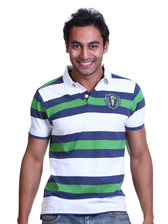clothoes: (27, 60, 152, 214)
